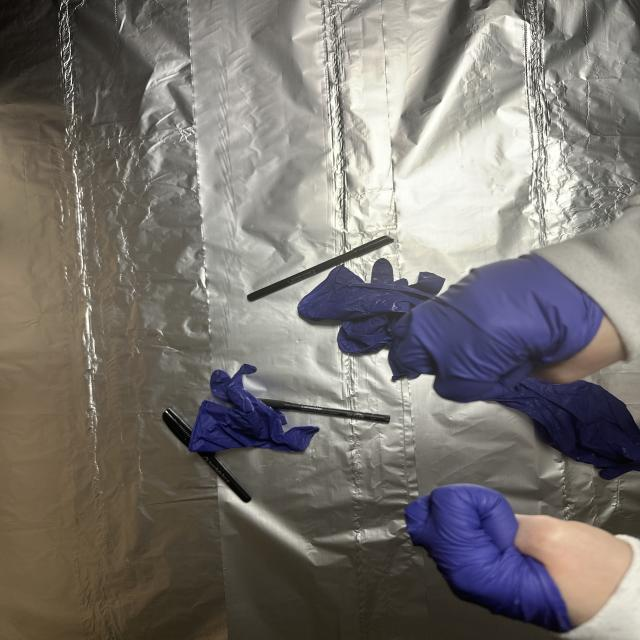glove_partial: (395, 248, 624, 402), (406, 481, 635, 633)
